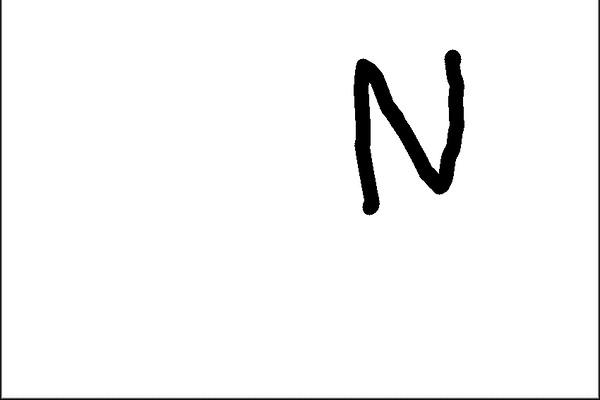N: (345, 43, 467, 219)
